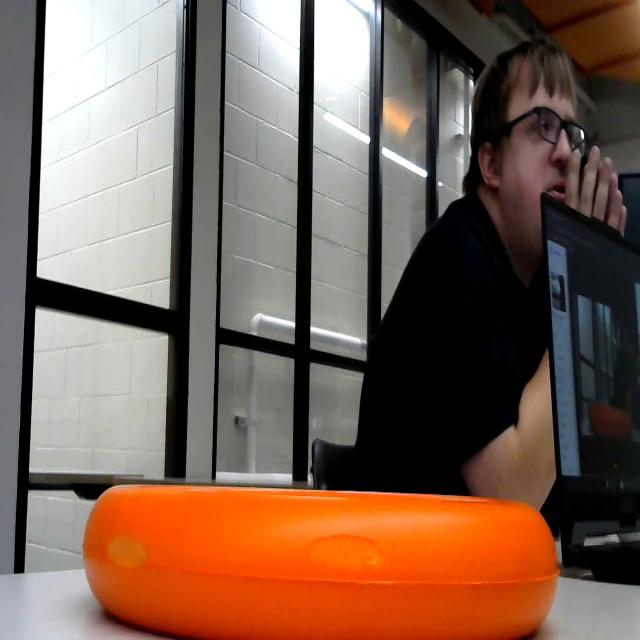note: (71, 478, 565, 640)
